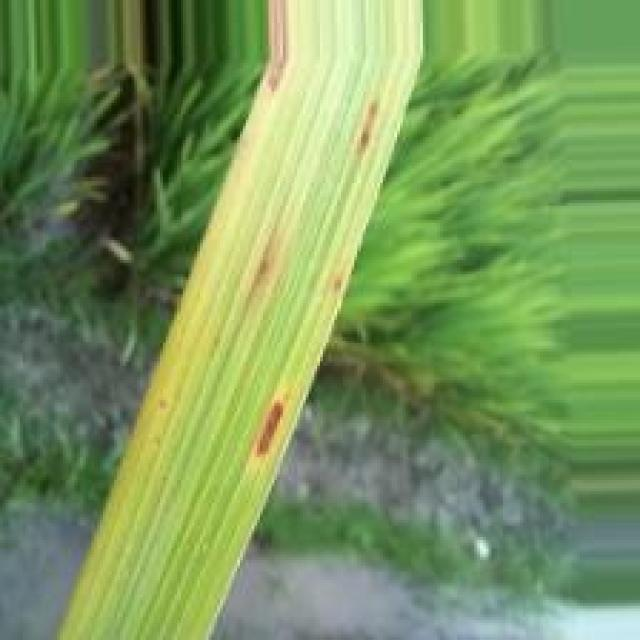Brown_Spot: (251, 395, 292, 462), (252, 230, 283, 296), (355, 94, 384, 159), (325, 269, 350, 302)
